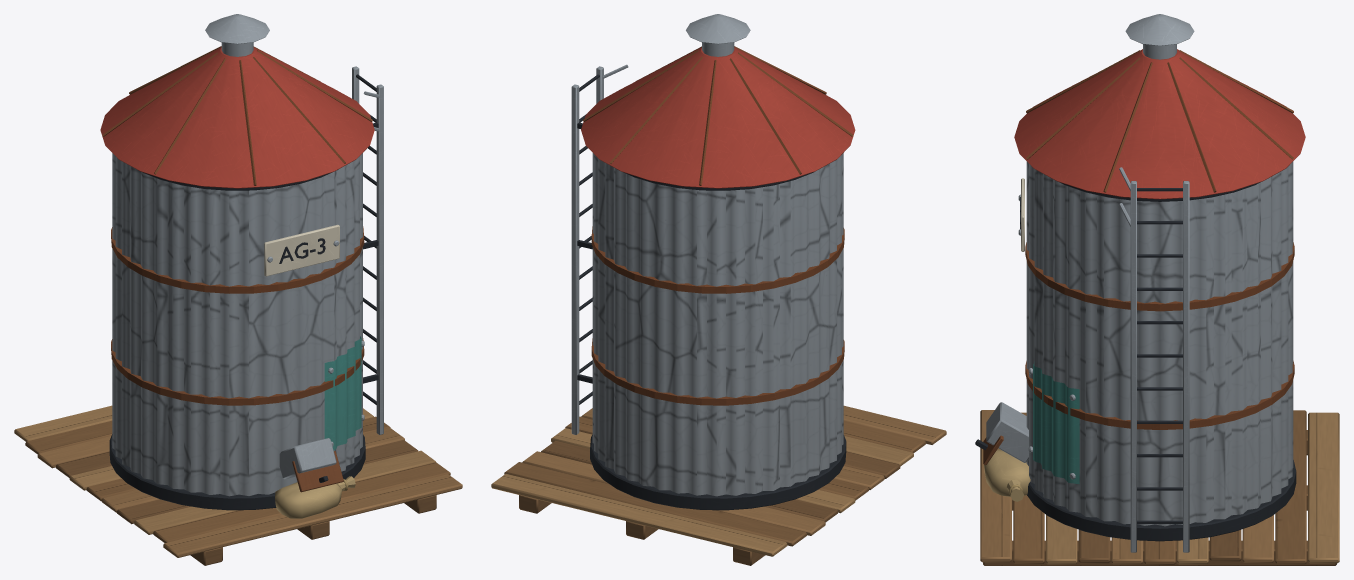
Rendered from grain_silo_small.glb.
3 renders of one model, left to right at view 1: azimuth 30°, elevation 25°; view 2: azimuth 150°, elevation 25°; view 3: azimuth 270°, elevation 25°, orthographic. The views are drawn at different scales.
Visible parts, largest first — view 1: grain_silo_small; view 2: grain_silo_small; view 3: grain_silo_small.
Part boxes in pixels (box(x1,y1,x2,y2)): grain_silo_small: box(14, 14, 462, 565); grain_silo_small: box(491, 14, 946, 565); grain_silo_small: box(975, 14, 1339, 565).
Bounding box in the file's own units: 2.74 × 4.12 × 2.78.
24 materials, 24 textured.
